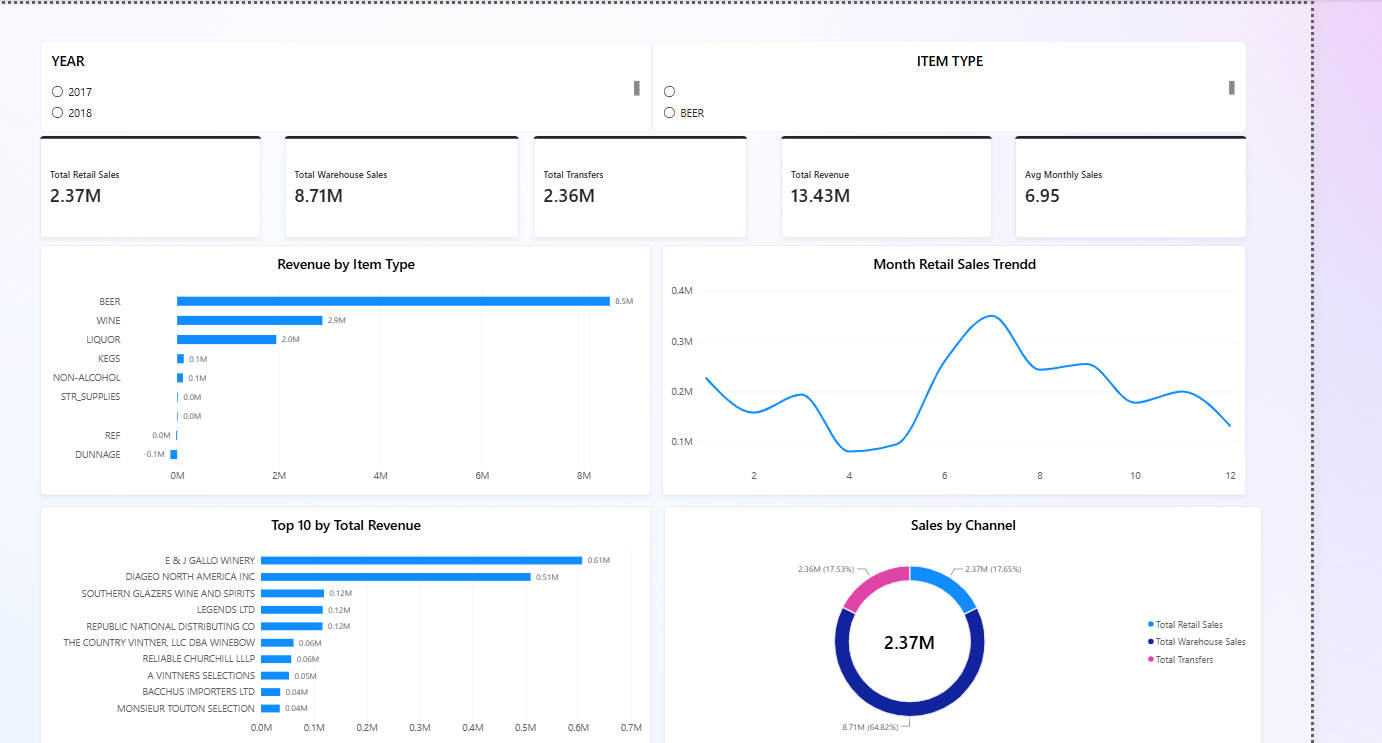

What the dashboard file says about the page in this screenshot:
{"tool":"powerbi","page":{"name":"Page 1","canvas":[1920,1080],"ordinal":0},"visuals":[{"type":"cardVisual","fields":{"Data":["export.Total Retail Sales"]},"box":[70.9,191.2,322.3,148.3],"z":0},{"type":"cardVisual","fields":{"Data":["export.Total Warehouse Sales"]},"box":[425.4,191.2,341.6,148.3],"z":1000},{"type":"cardVisual","fields":{"Data":["export.Total Transfers"]},"box":[788.5,191.2,311.5,148.3],"z":2000},{"type":"cardVisual","fields":{"Data":["export.Total Revenue"]},"box":[1149.5,191.2,307.2,148.3],"z":3000},{"type":"cardVisual","fields":{"Data":["export.Avg Monthly Sales"]},"box":[1489,191.2,337.3,148.3],"z":4000},{"type":"barChart","title":"Revenue by Item Type","fields":{"Y":["export.Total Revenue"],"Category":["export.ITEM TYPE"]},"box":[70.9,352.4,889.5,363.1],"z":4001},{"type":"lineChart","title":"Month Retail Sales Trendd","fields":{"Y":["export.Total Retail Sales"],"Category":["export.MONTH"]},"box":[976.7,352.1,849.5,363.4],"z":4002},{"type":"clusteredBarChart","title":"Top 10 by Total  Revenue","fields":{"Category":["export.SUPPLIER"],"Y":["export.Total Revenue"]},"box":[70.9,730.5,889.5,350.2],"z":4003},{"type":"donutChart","title":"Sales by Channel","fields":{"Y":["export.Total Retail Sales","export.Total Warehouse Sales","export.Total Transfers"]},"box":[977.6,730.5,870.2,350.2],"z":4004},{"type":"listSlicer","fields":{"Values":["export.ITEM TYPE"]},"box":[960.8,54.5,865.4,131.7],"z":4005},{"type":"listSlicer","fields":{"Values":["export.YEAR"]},"box":[70.4,54.5,890.4,131.7],"z":4006}]}

Visuals, with their boxes on the page's 1920x1080 design canvas (x1, y1, x2, y2). These are canvas units, not pixel positions in the 1382x743 screenshot, which may show the page scaled, cropped or inside an application window:
cardVisual - export.Total Retail Sales: (left=71, top=191, right=393, bottom=340)
cardVisual - export.Total Warehouse Sales: (left=425, top=191, right=767, bottom=340)
cardVisual - export.Total Transfers: (left=788, top=191, right=1100, bottom=340)
cardVisual - export.Total Revenue: (left=1150, top=191, right=1457, bottom=340)
cardVisual - export.Avg Monthly Sales: (left=1489, top=191, right=1826, bottom=340)
"Revenue by Item Type" barChart: (left=71, top=352, right=960, bottom=716)
"Month Retail Sales Trendd" lineChart: (left=977, top=352, right=1826, bottom=716)
"Top 10 by Total  Revenue" clusteredBarChart: (left=71, top=730, right=960, bottom=1081)
"Sales by Channel" donutChart: (left=978, top=730, right=1848, bottom=1081)
listSlicer - export.ITEM TYPE: (left=961, top=54, right=1826, bottom=186)
listSlicer - export.YEAR: (left=70, top=54, right=961, bottom=186)
